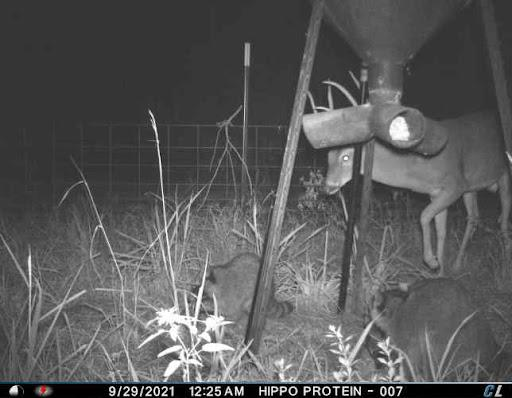Deer: (296, 69, 512, 278)
